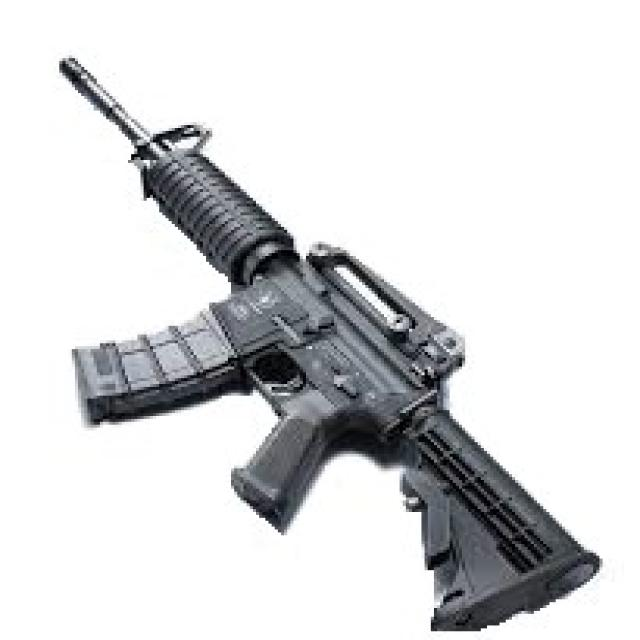rifle: (46, 47, 613, 638)
